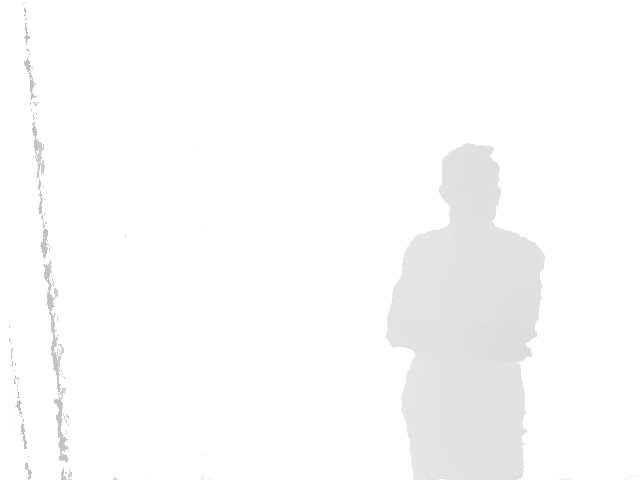head: (439, 143, 501, 224)
person: (384, 143, 549, 480)
